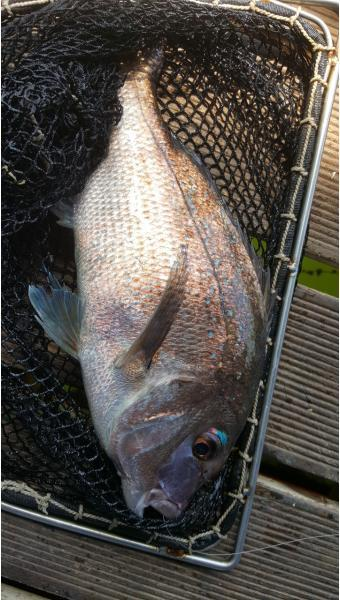fish: (28, 42, 275, 527)
